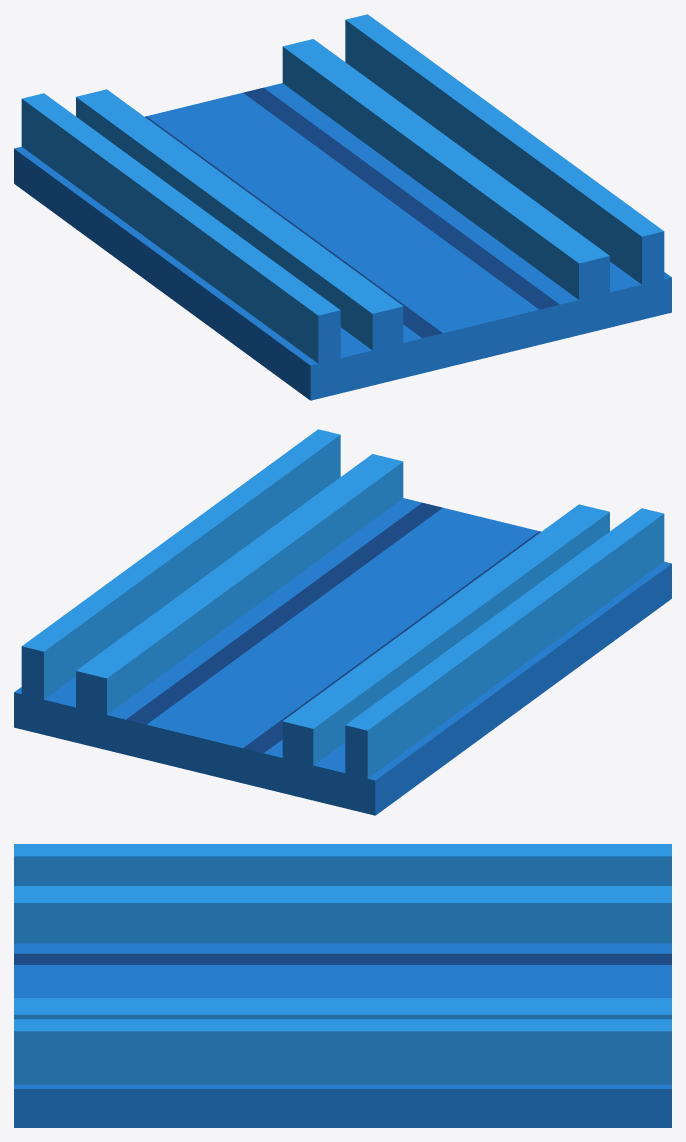
The model's file is Track_Straight_Quarter.fbx.
3 views of the same model, one above another, from view 1: azimuth 30°, elevation 25°; view 2: azimuth 150°, elevation 25°; view 3: azimuth 270°, elevation 25° (orthographic). The views are drawn at different scales.
Parts seen in each view (by area): view 1: Molded blue rail; view 2: Molded blue rail; view 3: Molded blue rail.
Boxes of the visible parts, x1,y1,x2,y2 form: Molded blue rail: (14,14,671,400); Molded blue rail: (14,429,671,815); Molded blue rail: (14,844,671,1127).
Bounding box in the file's own units: 106 × 23.21 × 150.
